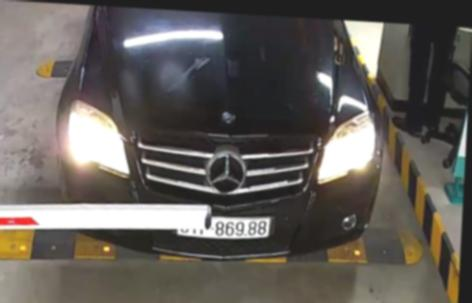License_Plate: (174, 207, 275, 242)
